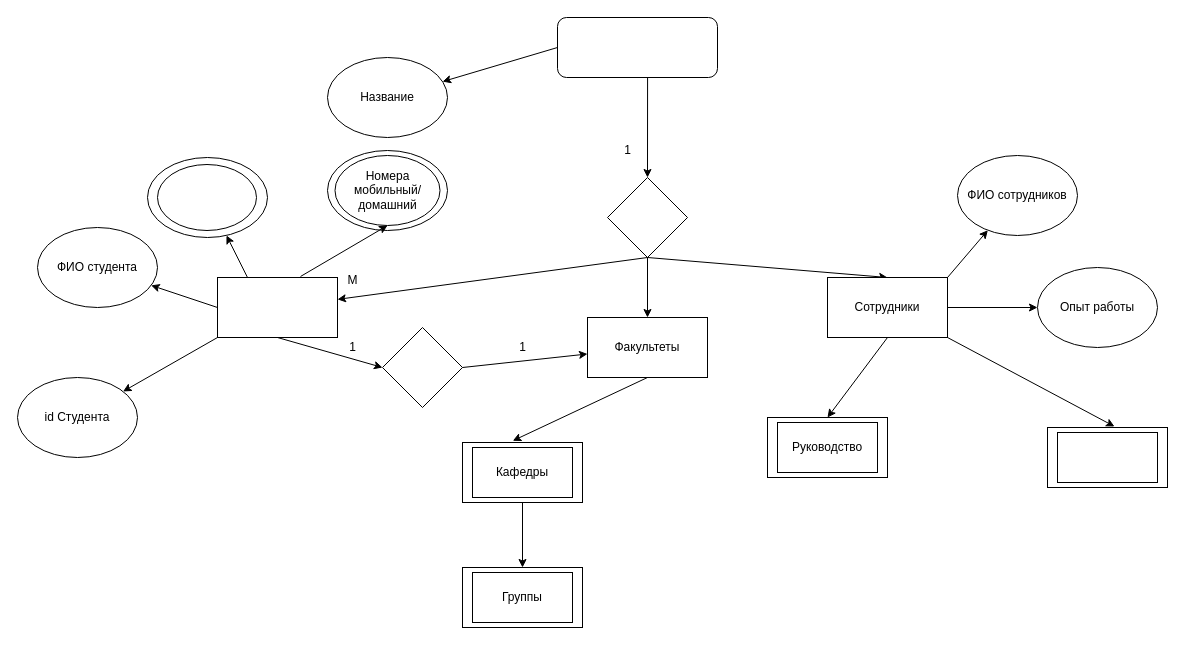
Some shapes in this 1185 by 645 pixel diagram are drawn without their labels. The shapes that lost their labels are listed below. From the top down, each one's centre as x and y in pixels, then its label:
point 637,47: Университет
point 206,197: Адреса
point 647,217: Содержит
point 277,307: Студенты
point 422,367: Где учится
point 1107,457: Преподаватели
